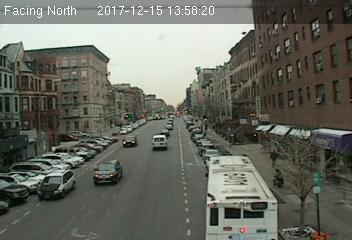bus: (205, 153, 282, 240)
car: (36, 170, 76, 201), (94, 160, 123, 183), (122, 135, 137, 147)
pedestrian: (272, 166, 285, 191)
truck: (151, 134, 169, 151)
